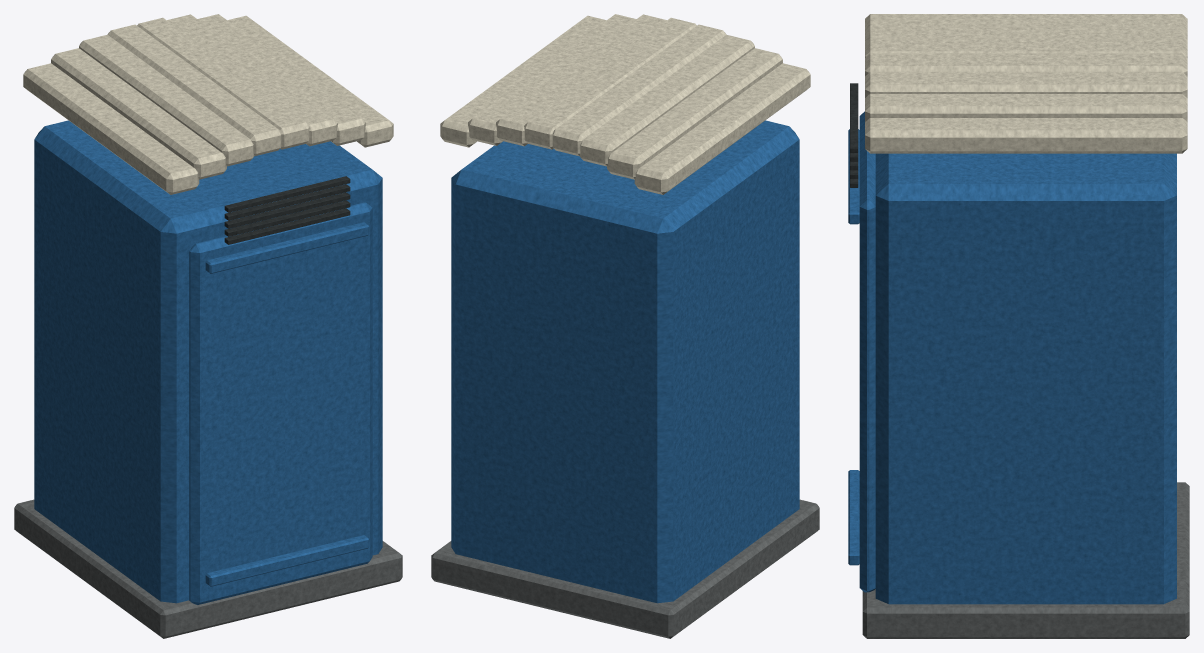
Rendered from PORTLET2_lod1.glb.
3 renders of one model, left to right at view 1: azimuth 30°, elevation 25°; view 2: azimuth 150°, elevation 25°; view 3: azimuth 270°, elevation 25°, orthographic. The views are drawn at different scales.
Visible parts, largest first — view 1: PORTLET2_LOD1; view 2: PORTLET2_LOD1; view 3: PORTLET2_LOD1.
Part boxes in pixels (left/top/right/bottom): PORTLET2_LOD1: left=14, top=14, right=402, bottom=638; PORTLET2_LOD1: left=431, top=14, right=819, bottom=638; PORTLET2_LOD1: left=848, top=14, right=1189, bottom=638.
Size of the model in its own units: 1.42 by 2.69 by 1.59.
Materials: 4 (4 with a texture image).
